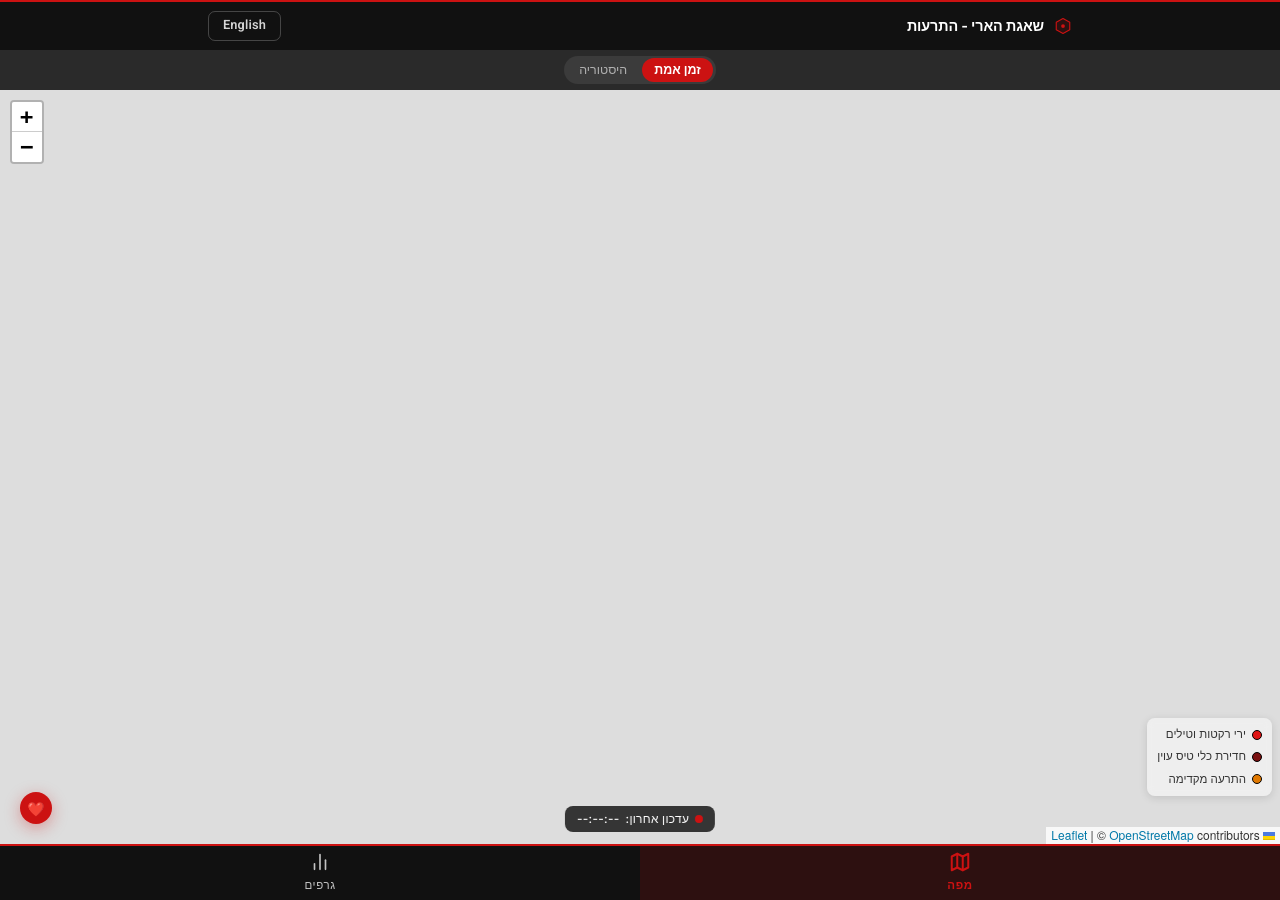
Page user-flow tests › error state shows retry button for non-custom ranges
Click the button "גרפים" at (320, 873), box [0, 846, 640, 899]
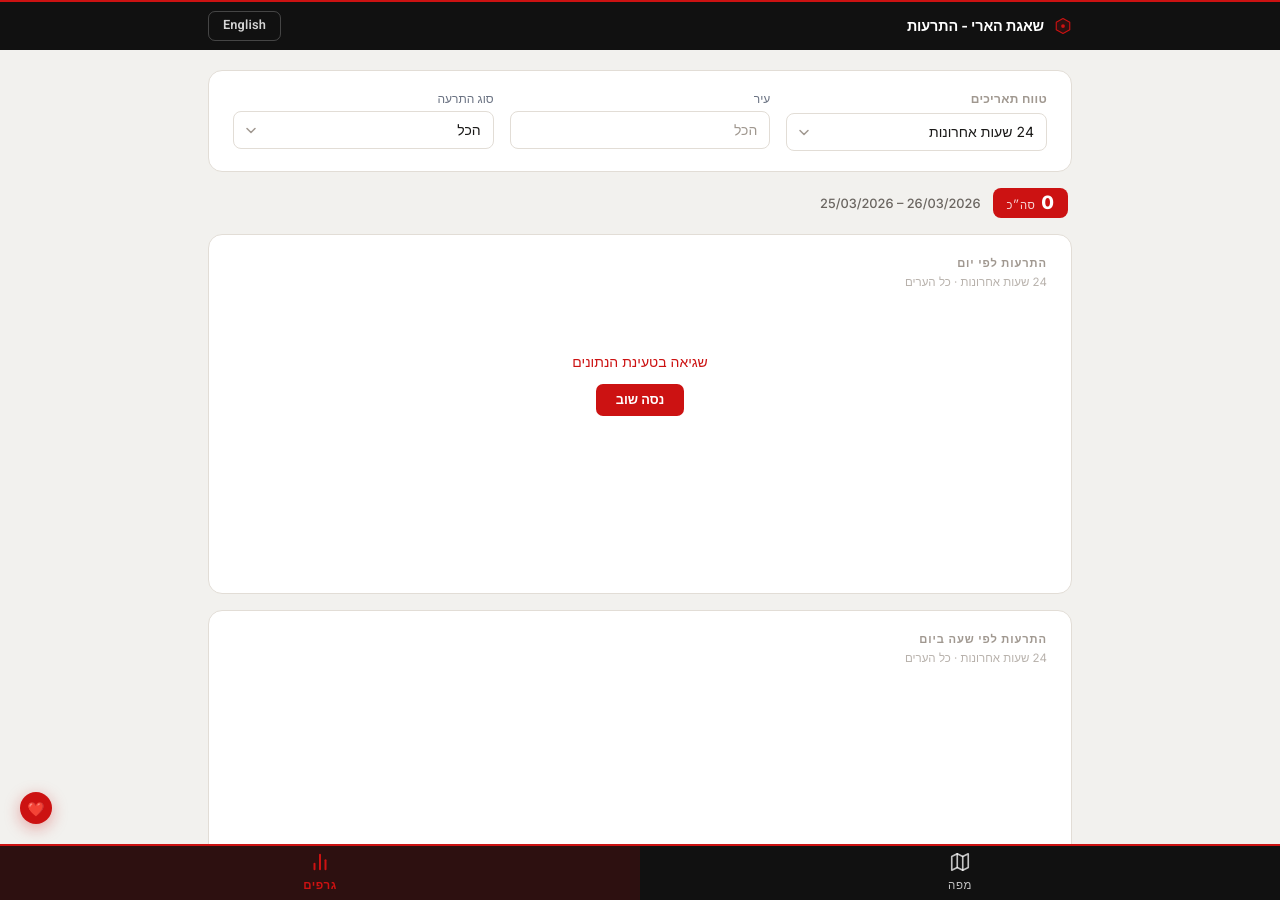
Check: the text "שגיאה בטעינת הנתונים" is shown, box [572, 351, 708, 372]
Check: the button "נסה שוב" is shown, box [596, 384, 684, 416]
